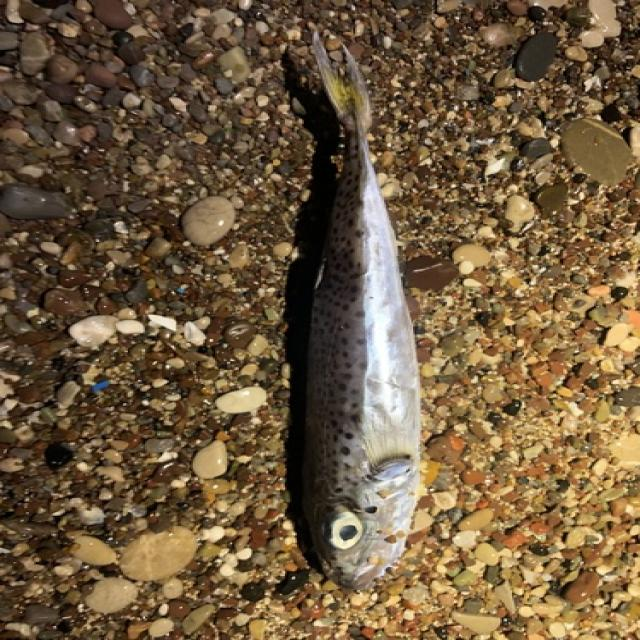Balik: (304, 32, 419, 588)
